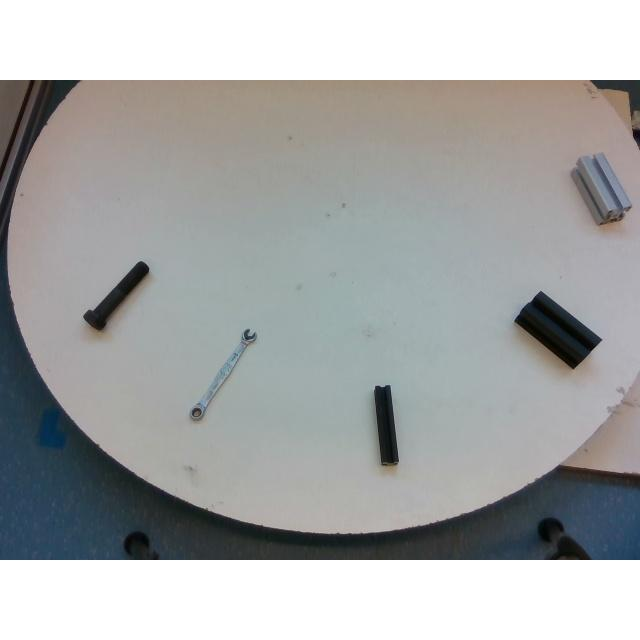F20_20_B: (374, 388, 398, 464)
M20_100: (83, 261, 149, 329)
S40_40_B: (514, 291, 600, 367)
S40_40_G: (571, 152, 631, 224)
Wrench: (188, 328, 256, 419)
